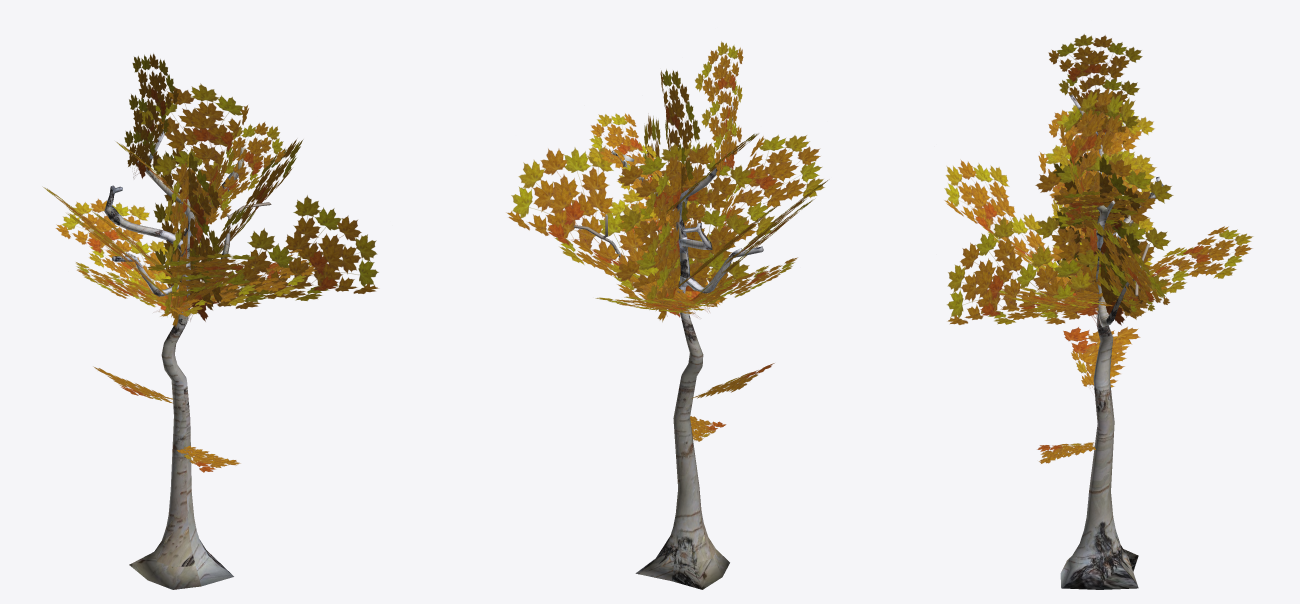
Rendered from Tree3.glb.
3 views of the same model, side by side, from view 1: azimuth 30°, elevation 25°; view 2: azimuth 150°, elevation 25°; view 3: azimuth 270°, elevation 25° (orthographic).
Visible parts, largest first — view 1: tree3; view 2: tree3; view 3: tree3.
Part boxes in pixels (x1=…): tree3: x1=43, y1=53, x2=378, y2=589; tree3: x1=506, y1=41, x2=829, y2=589; tree3: x1=944, y1=34, x2=1253, y2=589.
Size of the model in its own units: 6.38 by 10.28 by 6.43.
3 materials, 3 textured.
